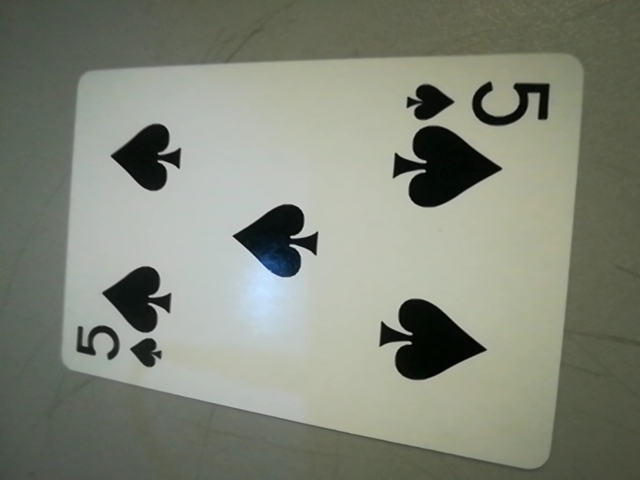ht 5: (400, 72, 566, 134)
